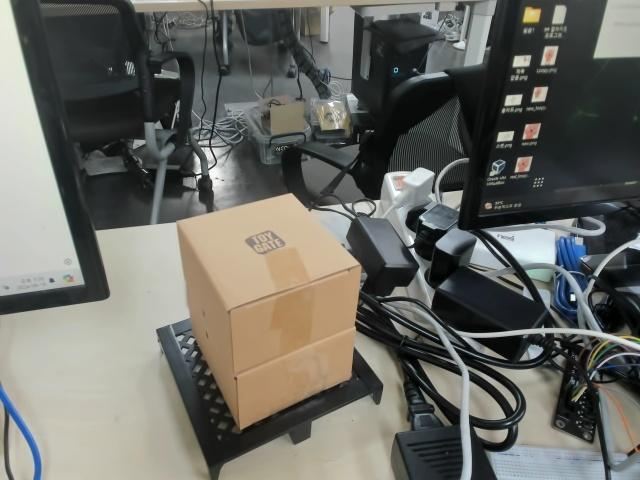box: (153, 194, 385, 479)
